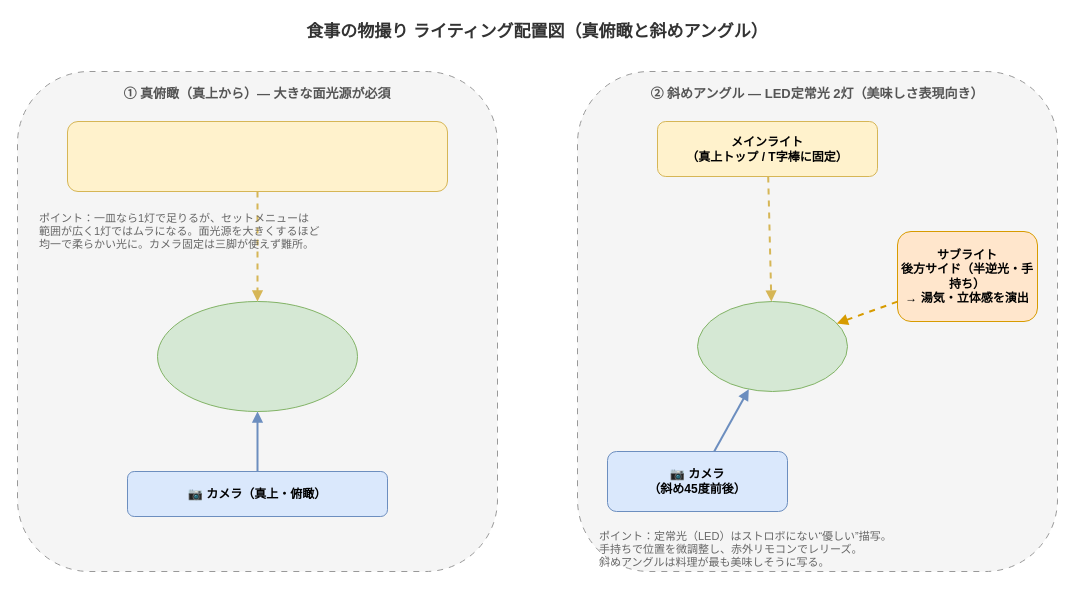
Image size: 1075x589. Some labels were removed from this diagram. The centre of each missing label's shape, as x and y in pixels:
"大きな面光源 （50cm ソフトボックス × 2 を T字棒で横連結）" belongs at point (257, 156).
"料理 （セットメニュー / A3超）" belongs at point (257, 356).
"料理（一皿）" belongs at point (772, 346).
